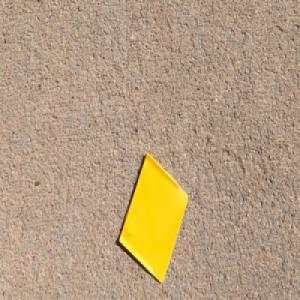PlasticPart: (118, 149, 189, 283)
